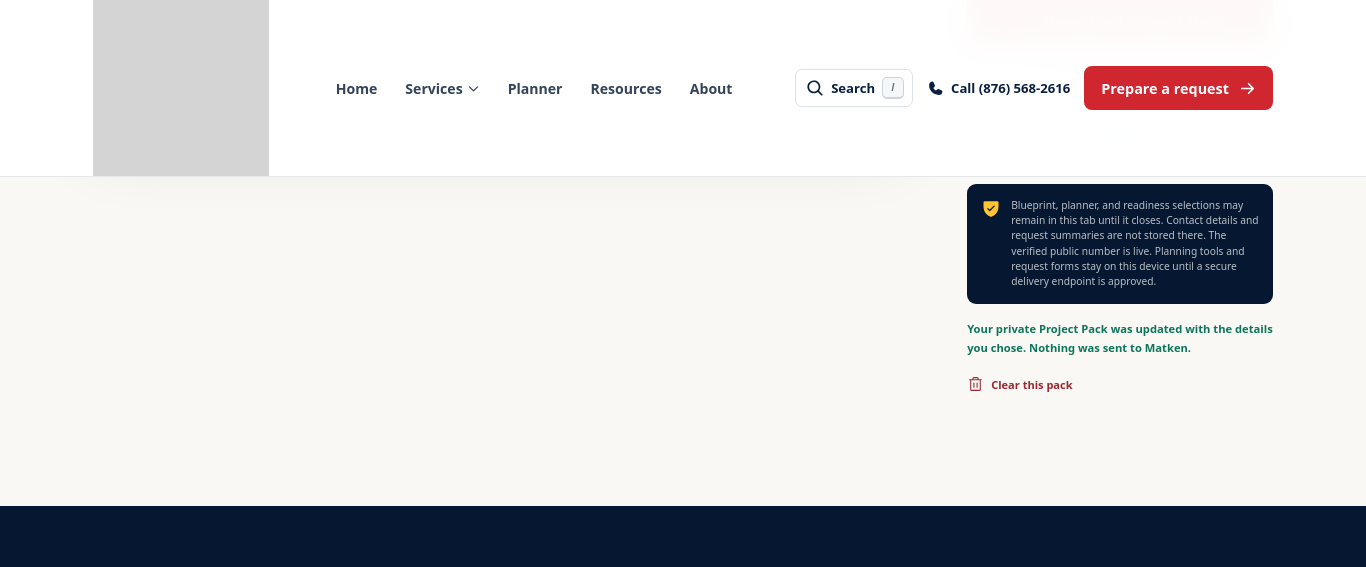
Test case: Matken customer journeys › asks before clearing private Project Pack details from this tab
The width and height of the screenshot is (1366, 567).
(page scrolled)
Click the button "Clear this pack": (1020, 385) [967,376,1073,393]
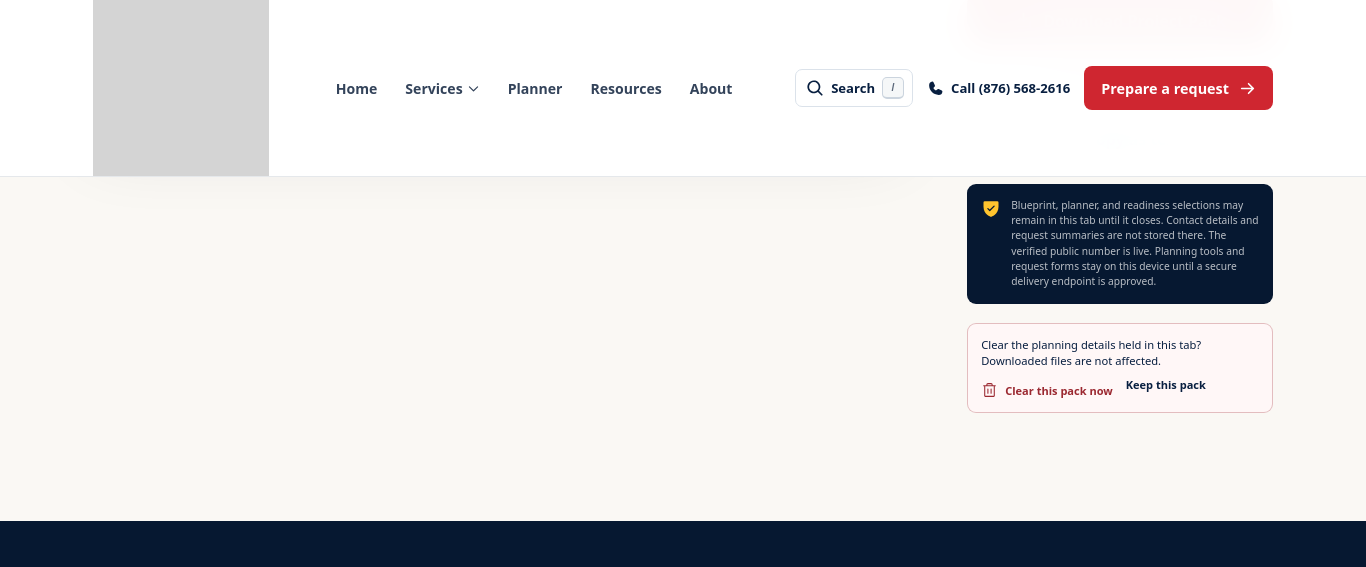
Result: the text "Project Pack was updated with the details you chose" is gone
Click the button "Clear this pack now": (1047, 391) [981,382,1113,399]
(page scrolled)
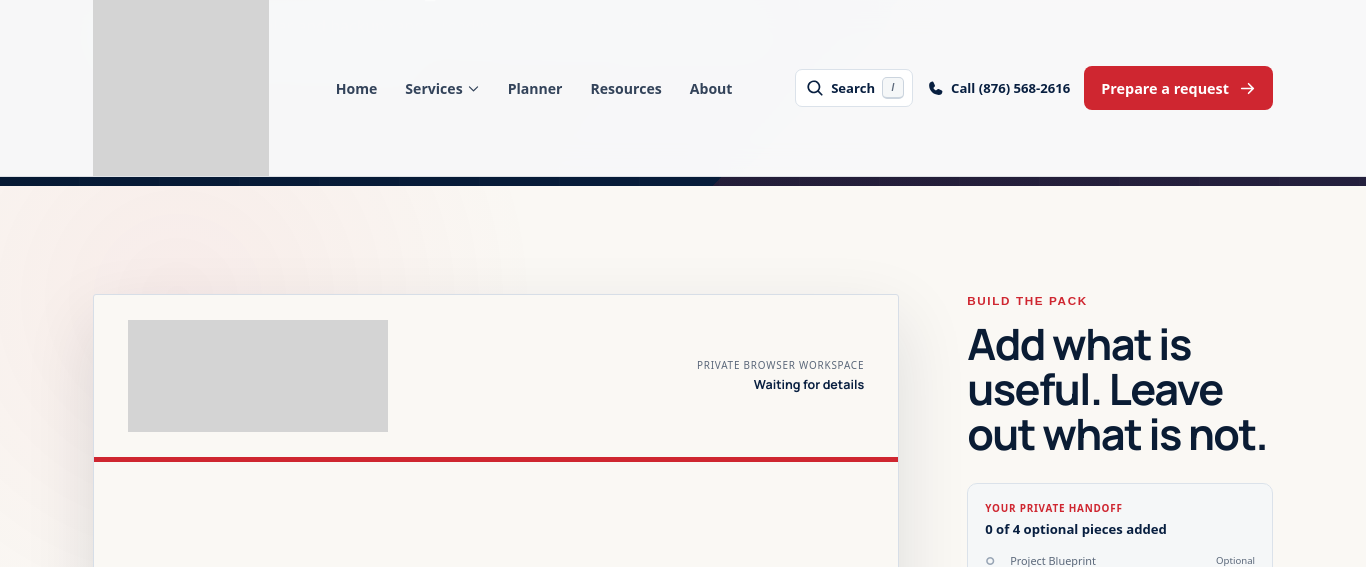
Result: the text "Waiting for details" is shown at [754,376,864,394]
